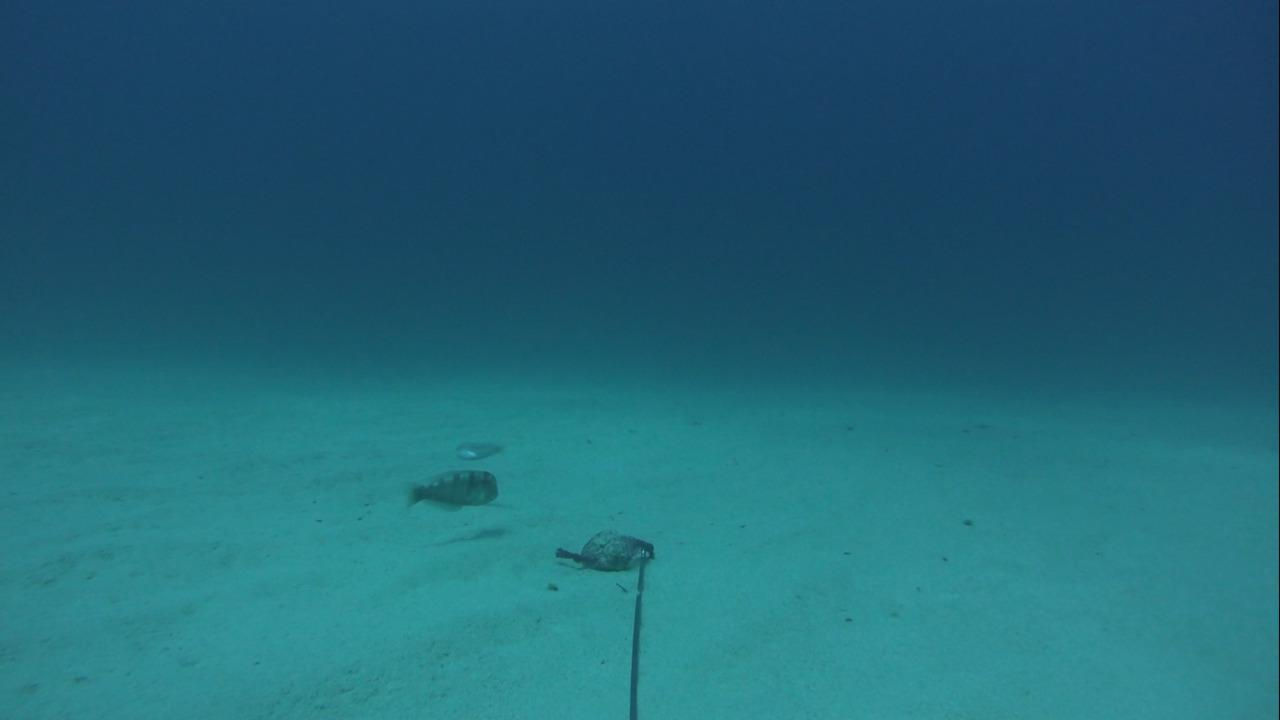raor: (399, 463, 503, 511), (454, 437, 504, 458)
